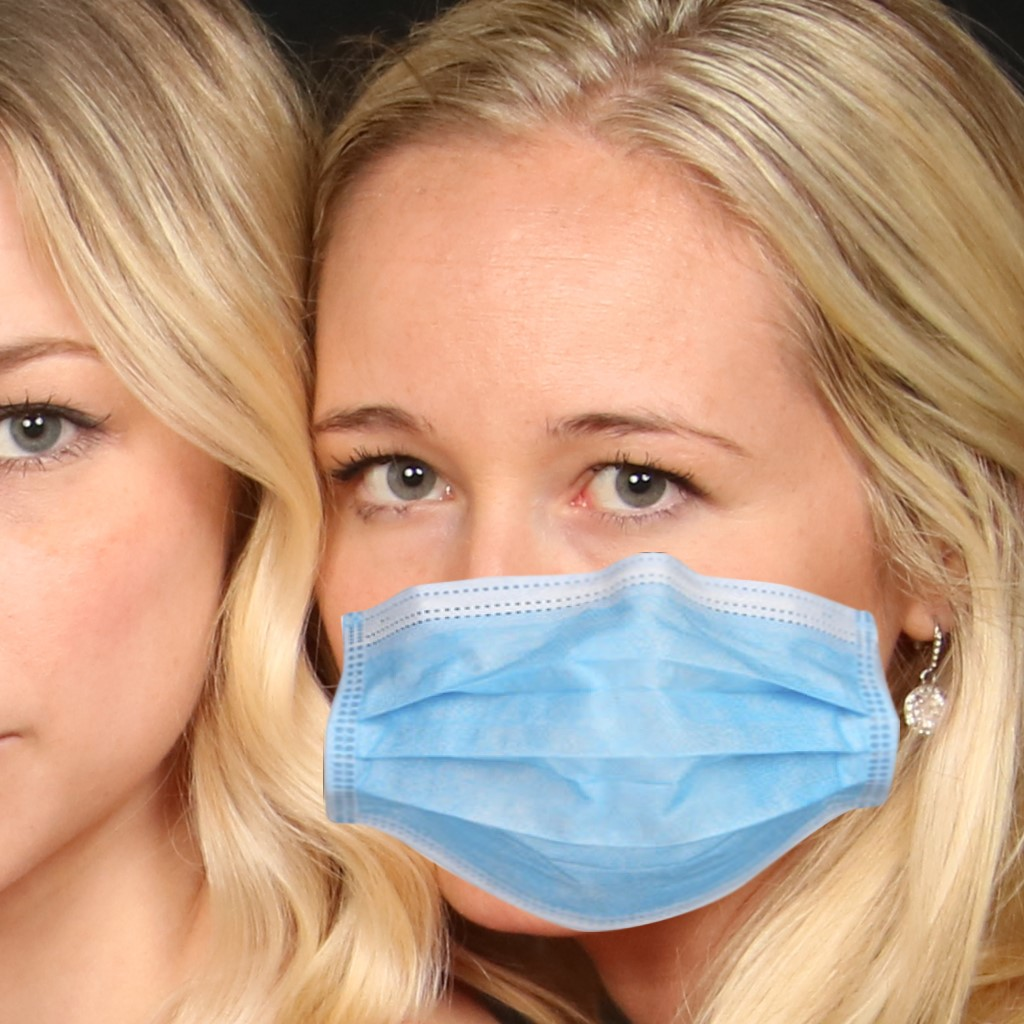con_mascara: (315, 128, 929, 900)
